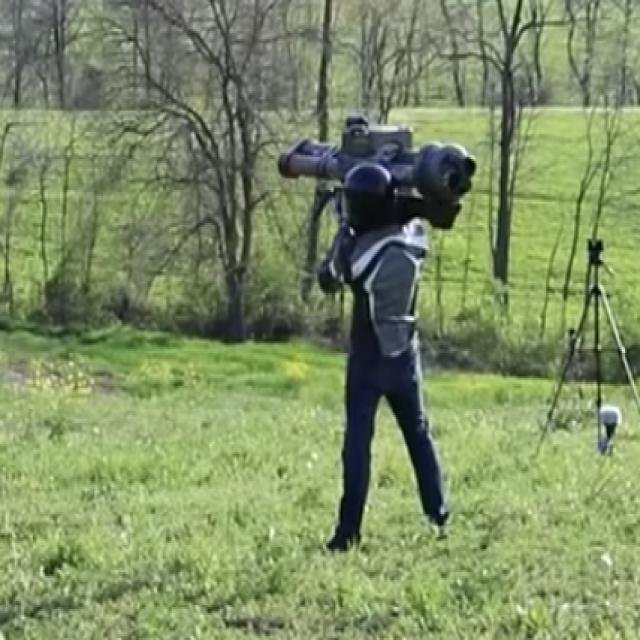bazooka: (271, 127, 485, 213)
